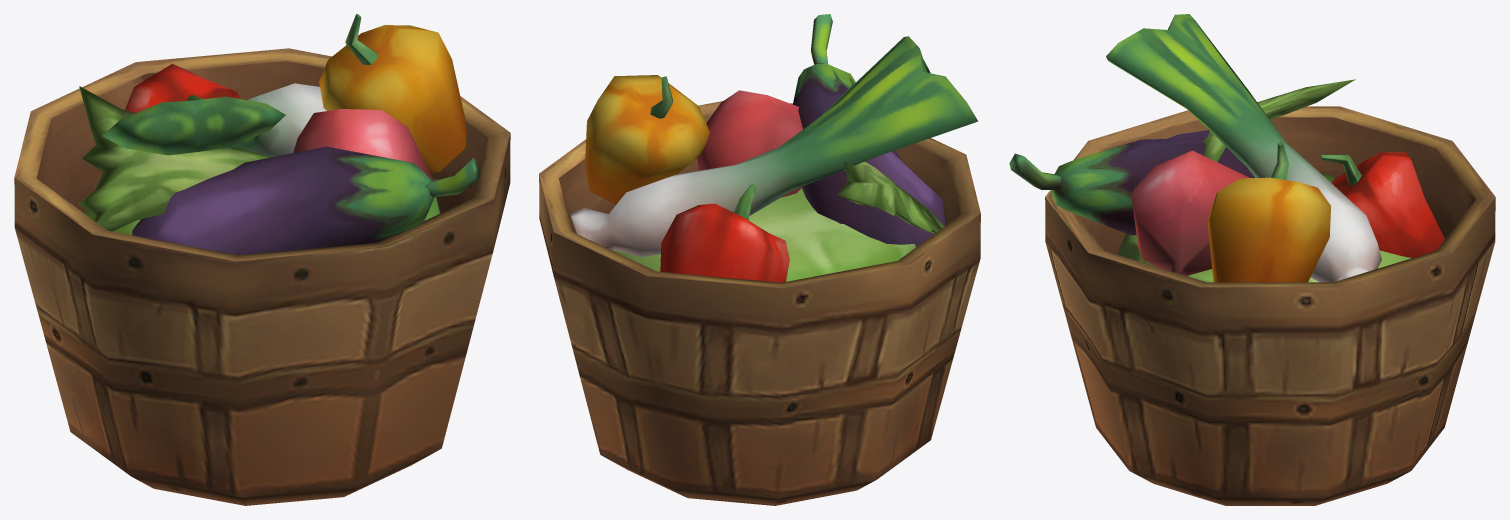
File: Vegetable_Basket_02.fbx
3 views of the same model, side by side, from view 1: azimuth 30°, elevation 25°; view 2: azimuth 150°, elevation 25°; view 3: azimuth 270°, elevation 25° (orthographic). The views are drawn at different scales.
Parts seen in each view (by area): view 1: Vegetable_Basket_02; view 2: Vegetable_Basket_02; view 3: Vegetable_Basket_02.
Part boxes in pixels (box(x1,y1,x2,y2)): Vegetable_Basket_02: box(14, 14, 510, 505); Vegetable_Basket_02: box(539, 14, 980, 505); Vegetable_Basket_02: box(1009, 14, 1495, 505).
Size of the model in its own units: 0.8178 by 0.7853 by 0.9281.
